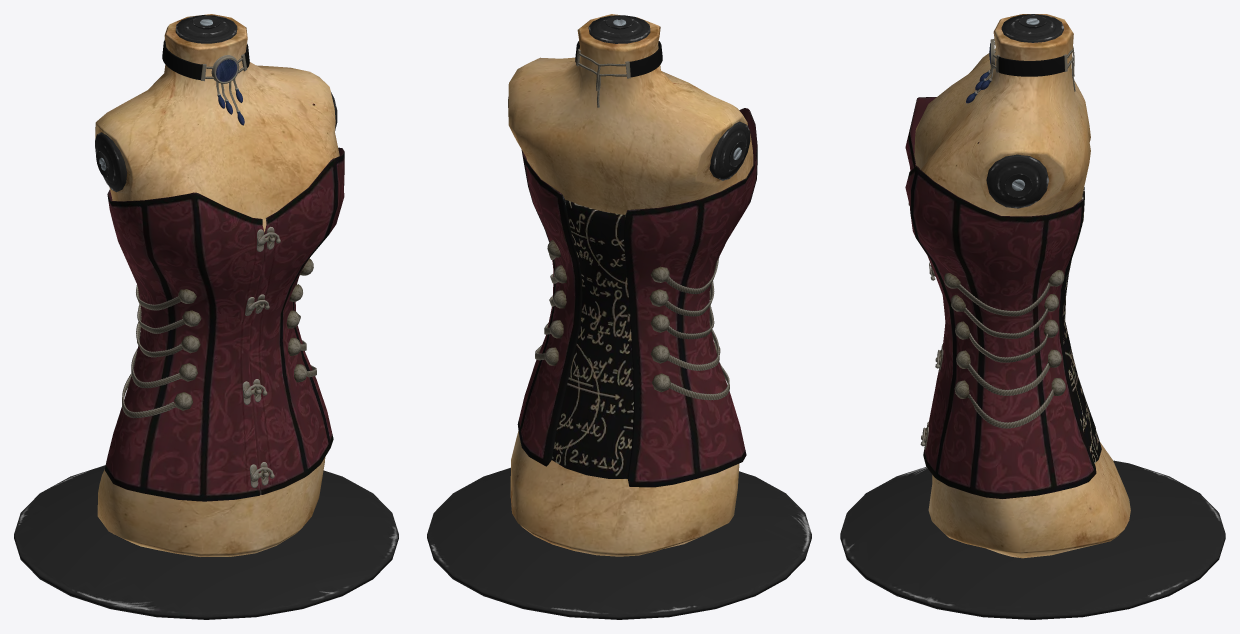
Rendered from corset.glb.
The picture shows the model from 3 angles, left to right: view 1: azimuth 30°, elevation 25°; view 2: azimuth 150°, elevation 25°; view 3: azimuth 270°, elevation 25°; orthographic projection.
Visible parts, largest first — view 1: Corset; view 2: Corset; view 3: Corset.
Part boxes in pixels (x1,y1,x2,y2): Corset: [14, 14, 398, 619]; Corset: [427, 14, 811, 619]; Corset: [840, 14, 1225, 619].
Size of the model in its own units: 0.0389 by 0.0578 by 0.0389.
1 material, 1 textured.
